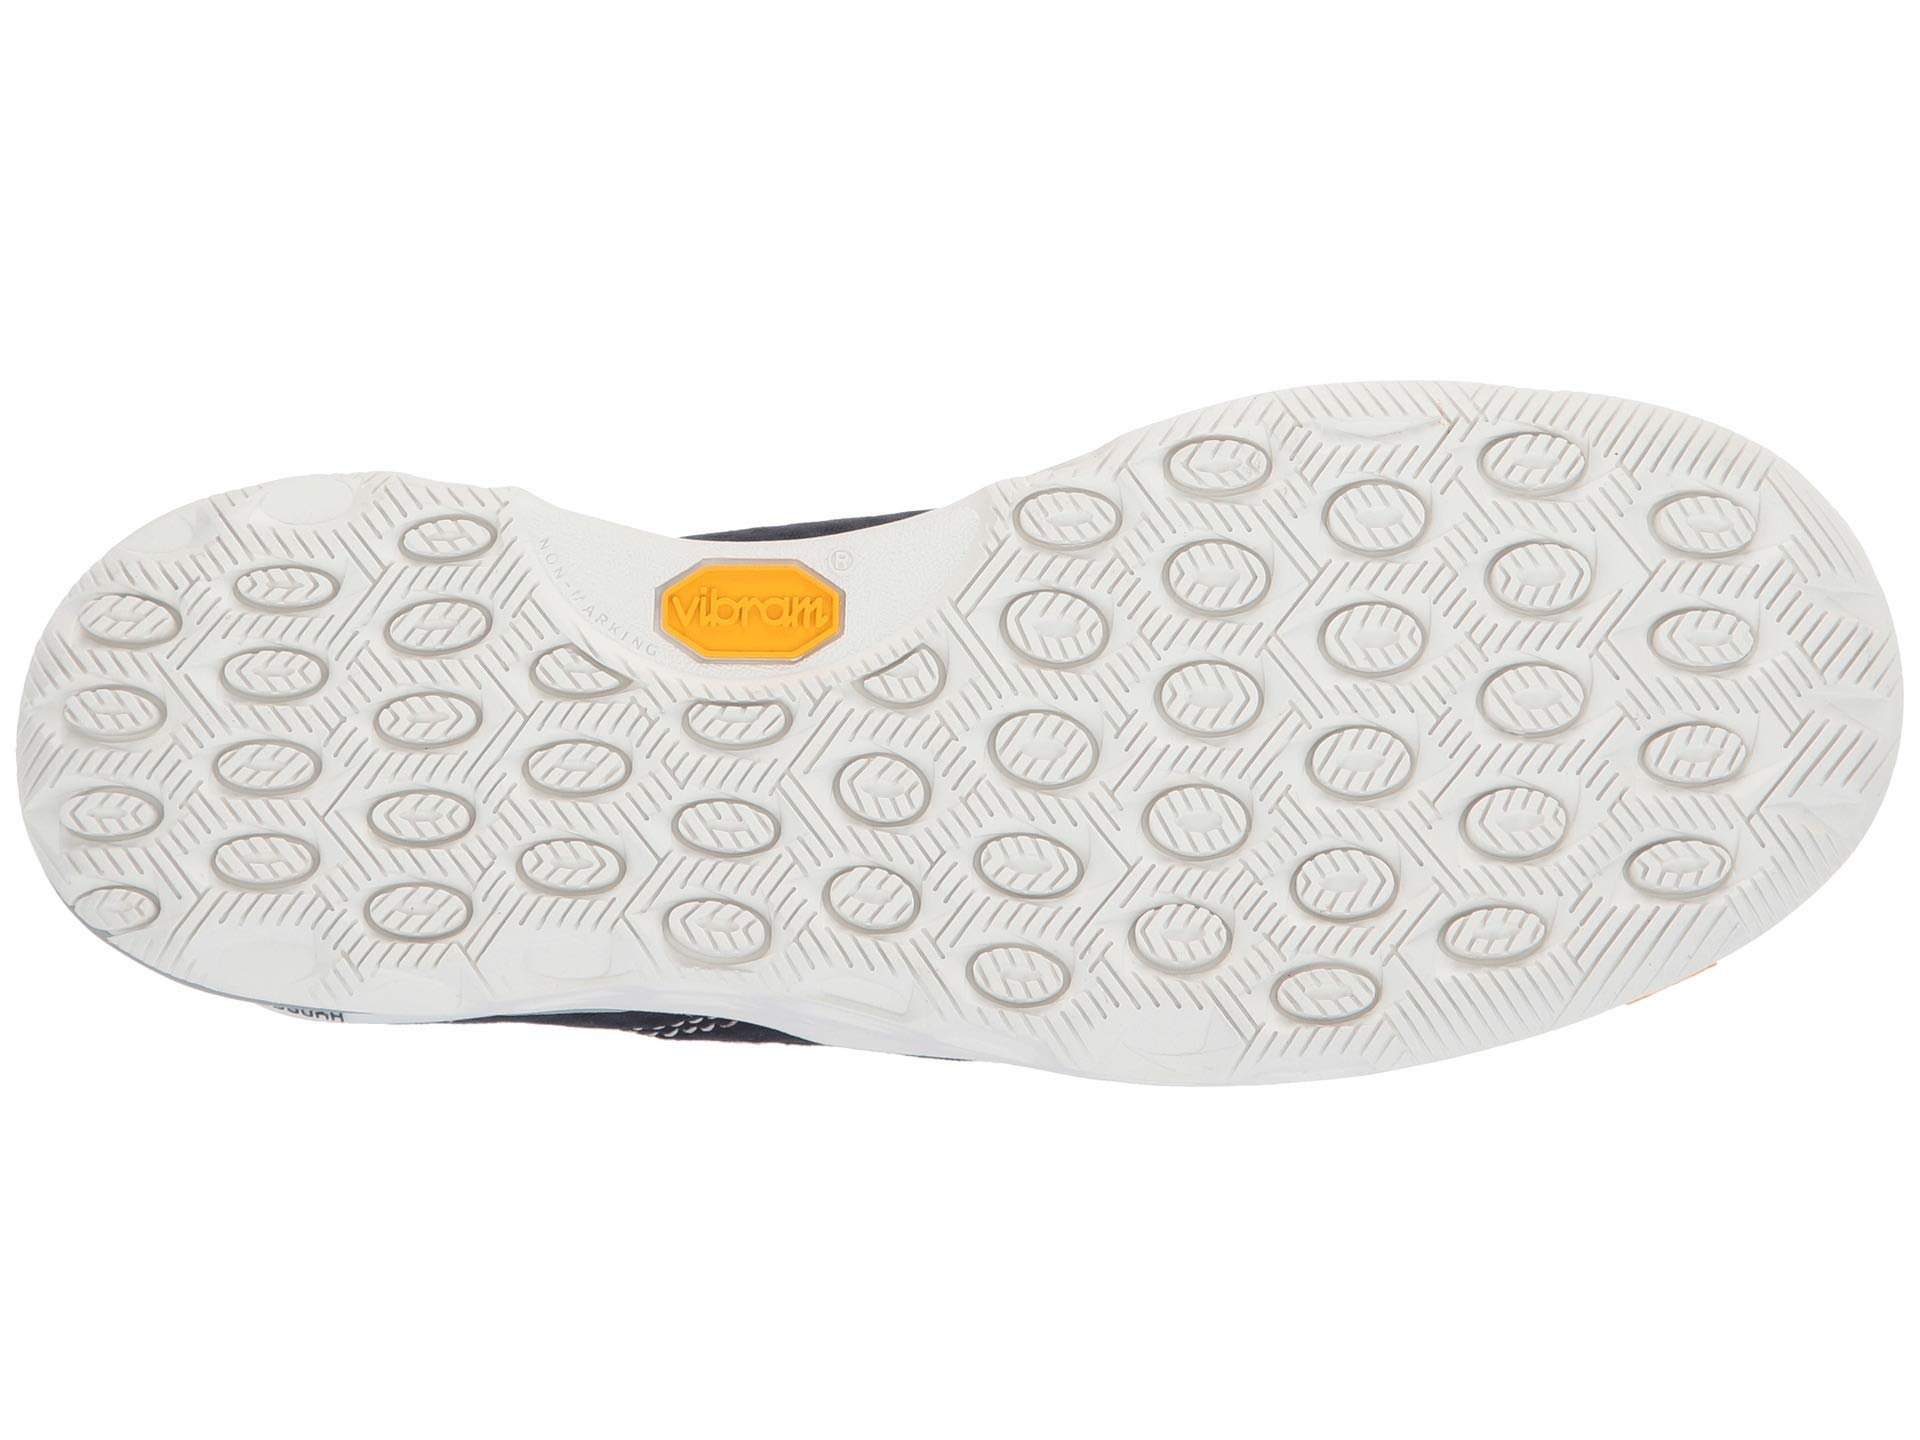chevron: (989, 476, 1500, 1038), (97, 576, 513, 982)
circle: (989, 476, 1500, 1038), (97, 576, 513, 982)
line: (989, 476, 1500, 1038), (97, 576, 513, 982)
